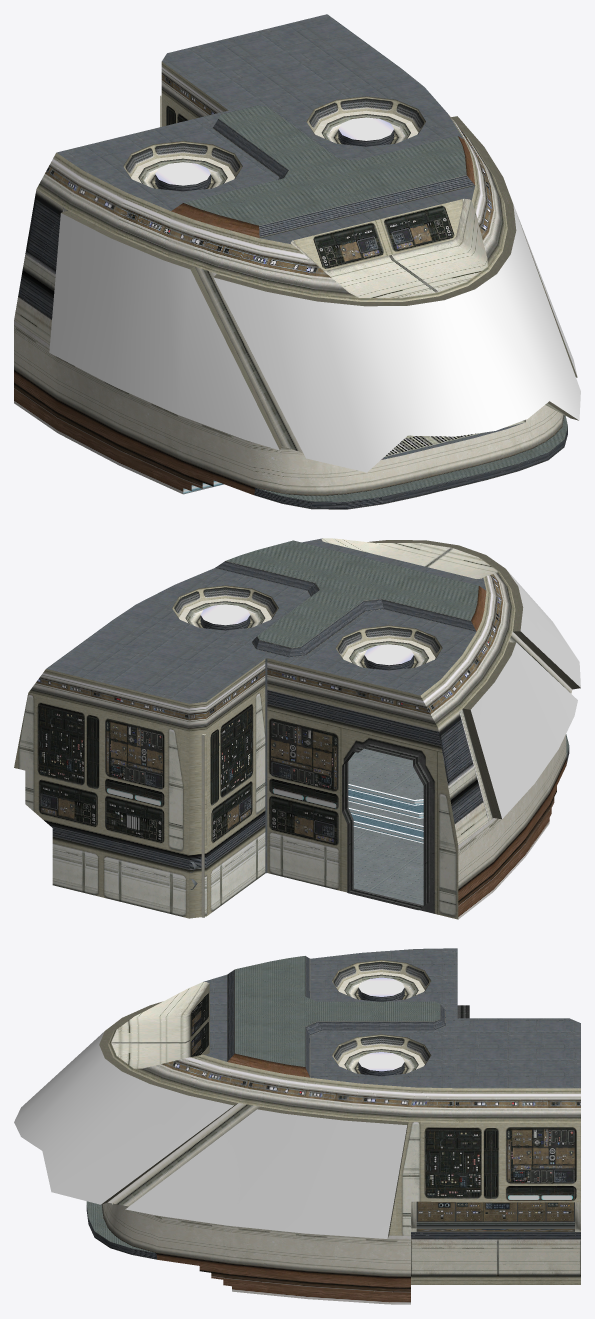
Rendered from sorosuub_space_yacht_r1_bridge_mesh_r1.fbx.
3 views of the same model, one above another, from view 1: azimuth 30°, elevation 25°; view 2: azimuth 150°, elevation 25°; view 3: azimuth 270°, elevation 25° (orthographic). The views are drawn at different scales.
Parts seen in each view (by area): view 1: mesh_node; view 2: mesh_node; view 3: mesh_node.
Boxes of the visible parts, x1,y1,x2,y2 form: mesh_node: [14, 14, 580, 509]; mesh_node: [14, 538, 580, 919]; mesh_node: [14, 948, 580, 1304].
Size of the model in its own units: 7.26 by 3.89 by 9.67.
